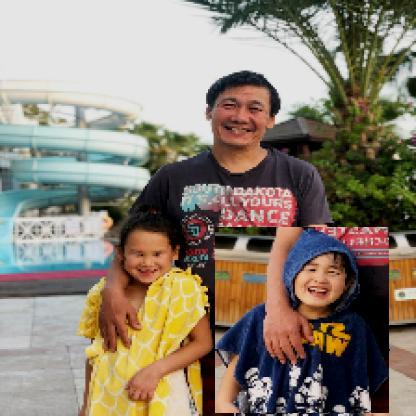child: (216, 228, 391, 415), (75, 204, 215, 416)
